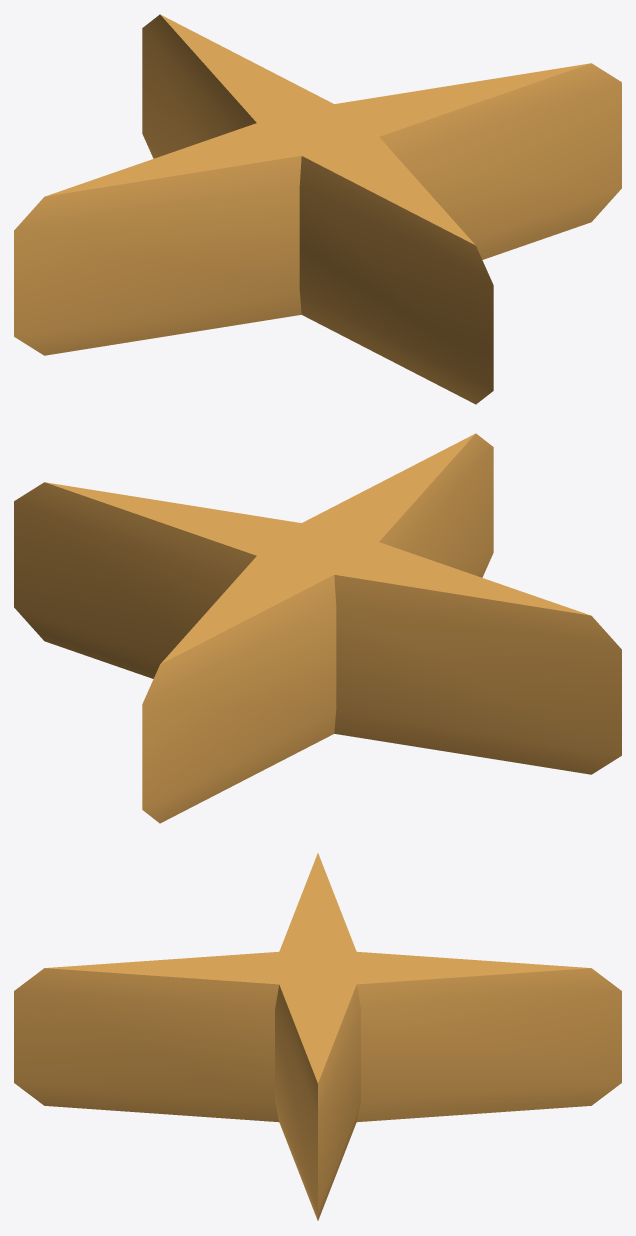
File: Star_4P_01.fbx
The picture shows the model from 3 angles, top to bottom: view 1: azimuth 30°, elevation 25°; view 2: azimuth 150°, elevation 25°; view 3: azimuth 270°, elevation 25°; orthographic projection. The views are drawn at different scales.
Parts seen in each view (by area): view 1: Star_4P_01; view 2: Star_4P_01; view 3: Star_4P_01.
Boxes of the visible parts, left/top/right/bottom form: Star_4P_01: left=14, top=14, right=621, bottom=404; Star_4P_01: left=14, top=433, right=621, bottom=823; Star_4P_01: left=14, top=853, right=621, bottom=1220.
Bounding box in the file's own units: 400 × 100 × 400.
